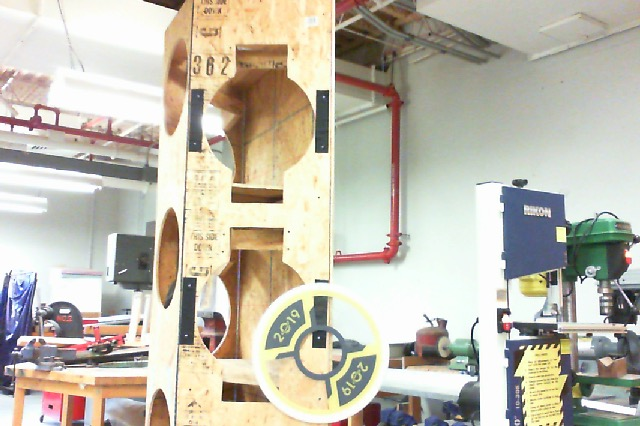Hatch: (251, 281, 390, 423)
